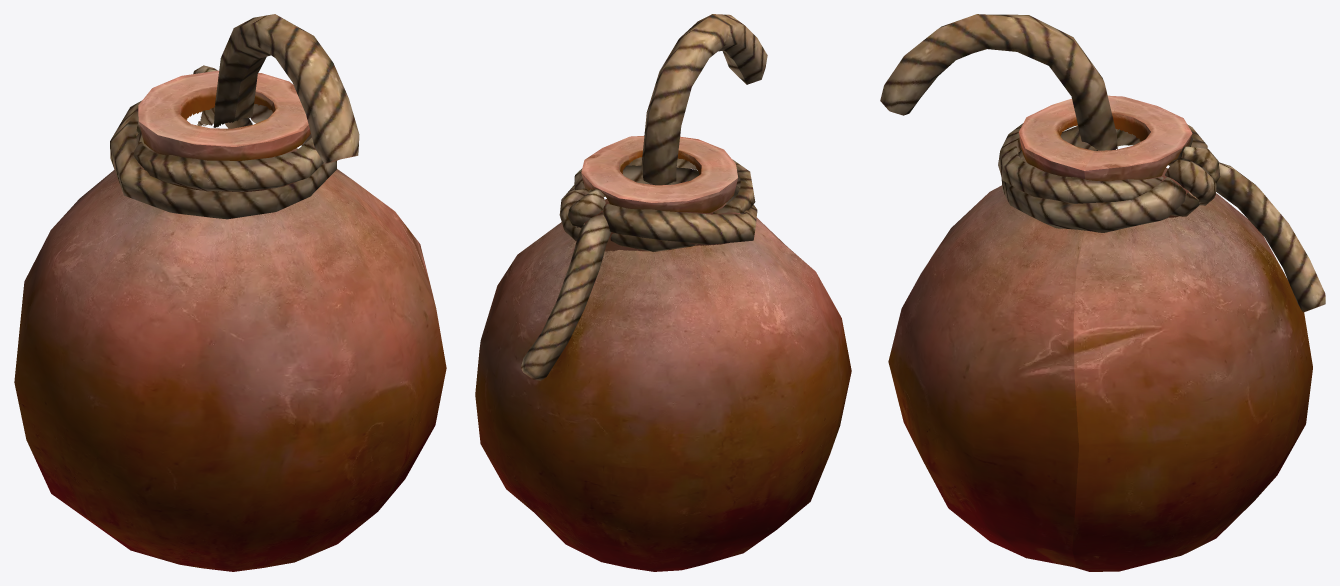
3 views of the same model, side by side, from view 1: azimuth 30°, elevation 25°; view 2: azimuth 150°, elevation 25°; view 3: azimuth 270°, elevation 25° (orthographic). The views are drawn at different scales.
Visible parts, largest first — view 1: SM_Ranged_Fire_Oil_LOD0; view 2: SM_Ranged_Fire_Oil_LOD0; view 3: SM_Ranged_Fire_Oil_LOD0.
Part boxes in pixels (x1,y1,x2,y2): SM_Ranged_Fire_Oil_LOD0: (14,14,446,571); SM_Ranged_Fire_Oil_LOD0: (475,14,851,571); SM_Ranged_Fire_Oil_LOD0: (880,14,1325,571).
Size of the model in its own units: 0.2415 by 0.3448 by 0.2599.
Materials: 1 (1 with a texture image).
